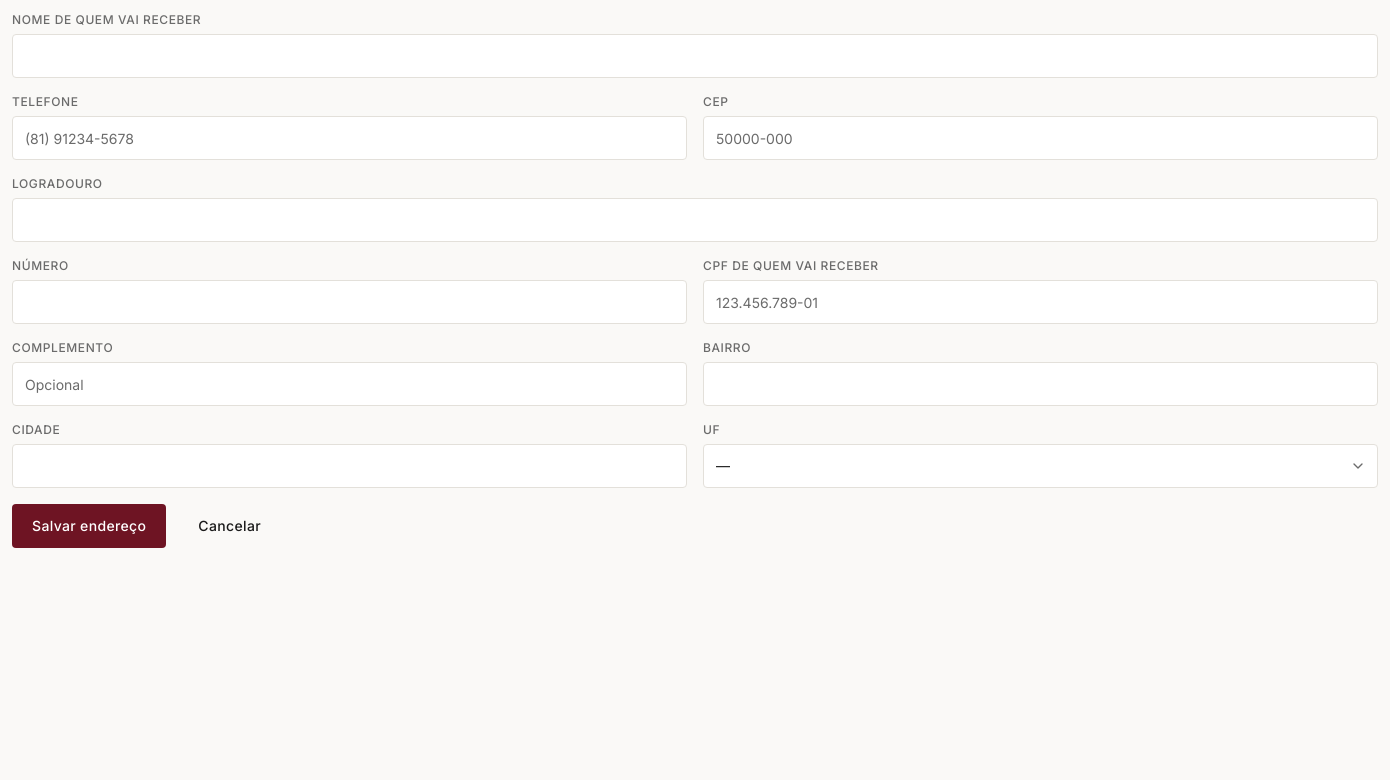
Test case: AddressForm › erro de rede no ViaCEP: mostra aviso amigavel
Type "51020000" into the field labelled "CEP". click: (1040, 138)
box: [703,116,1378,160]
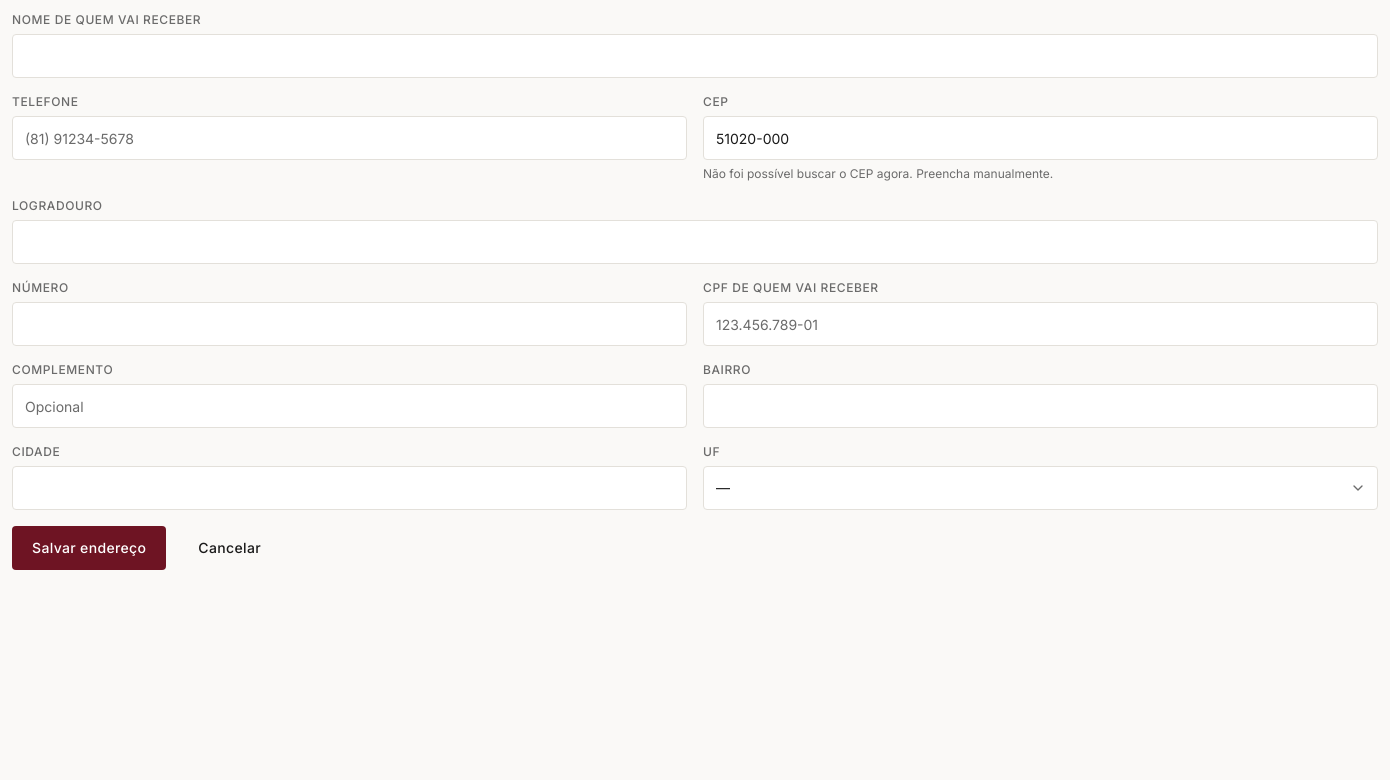
Now the text "Não foi possível buscar o CEP agora. Preencha manualmente." is shown, box [703,166,1053,181]
